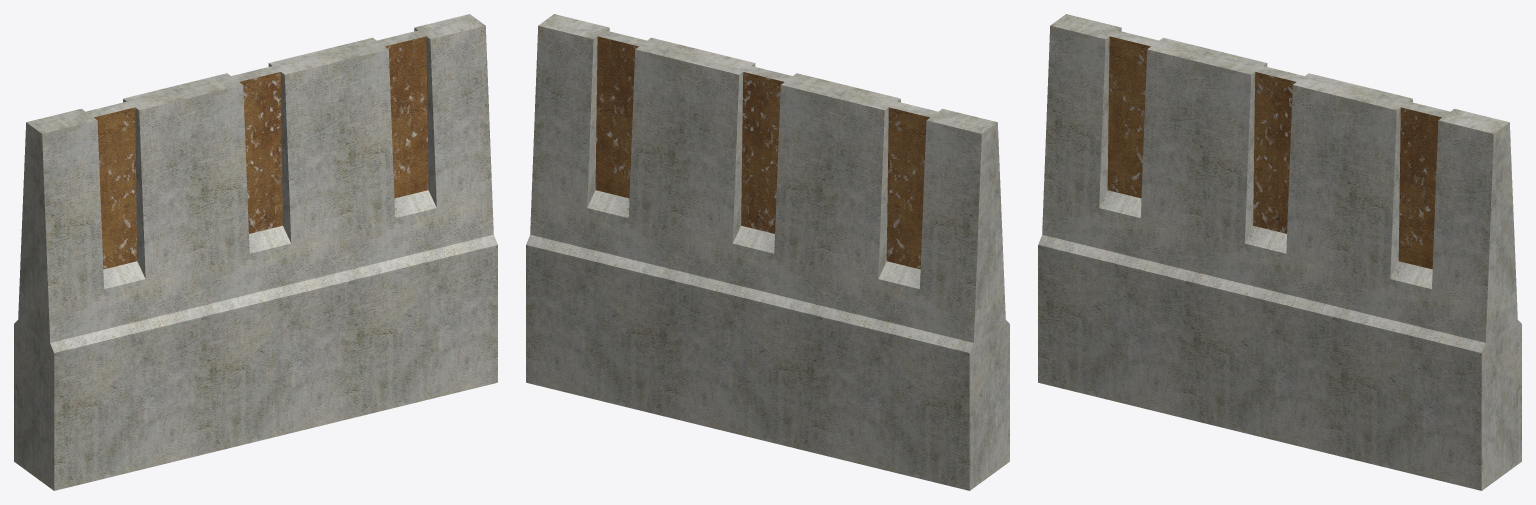
Rendered from mun_all_military_wall_weak_rebl_s01_l0.fbx.
The picture shows the model from 3 angles, left to right: view 1: azimuth 30°, elevation 25°; view 2: azimuth 150°, elevation 25°; view 3: azimuth 330°, elevation 25°; orthographic projection.
Visible parts, largest first — view 1: mesh_node; view 2: mesh_node; view 3: mesh_node.
Part boxes in pixels (x1,y1,x2,y2): mesh_node: (14, 14, 497, 490); mesh_node: (526, 14, 1009, 490); mesh_node: (1038, 14, 1521, 490).
Bounding box in the file's own units: 8 × 6 × 1.25.
